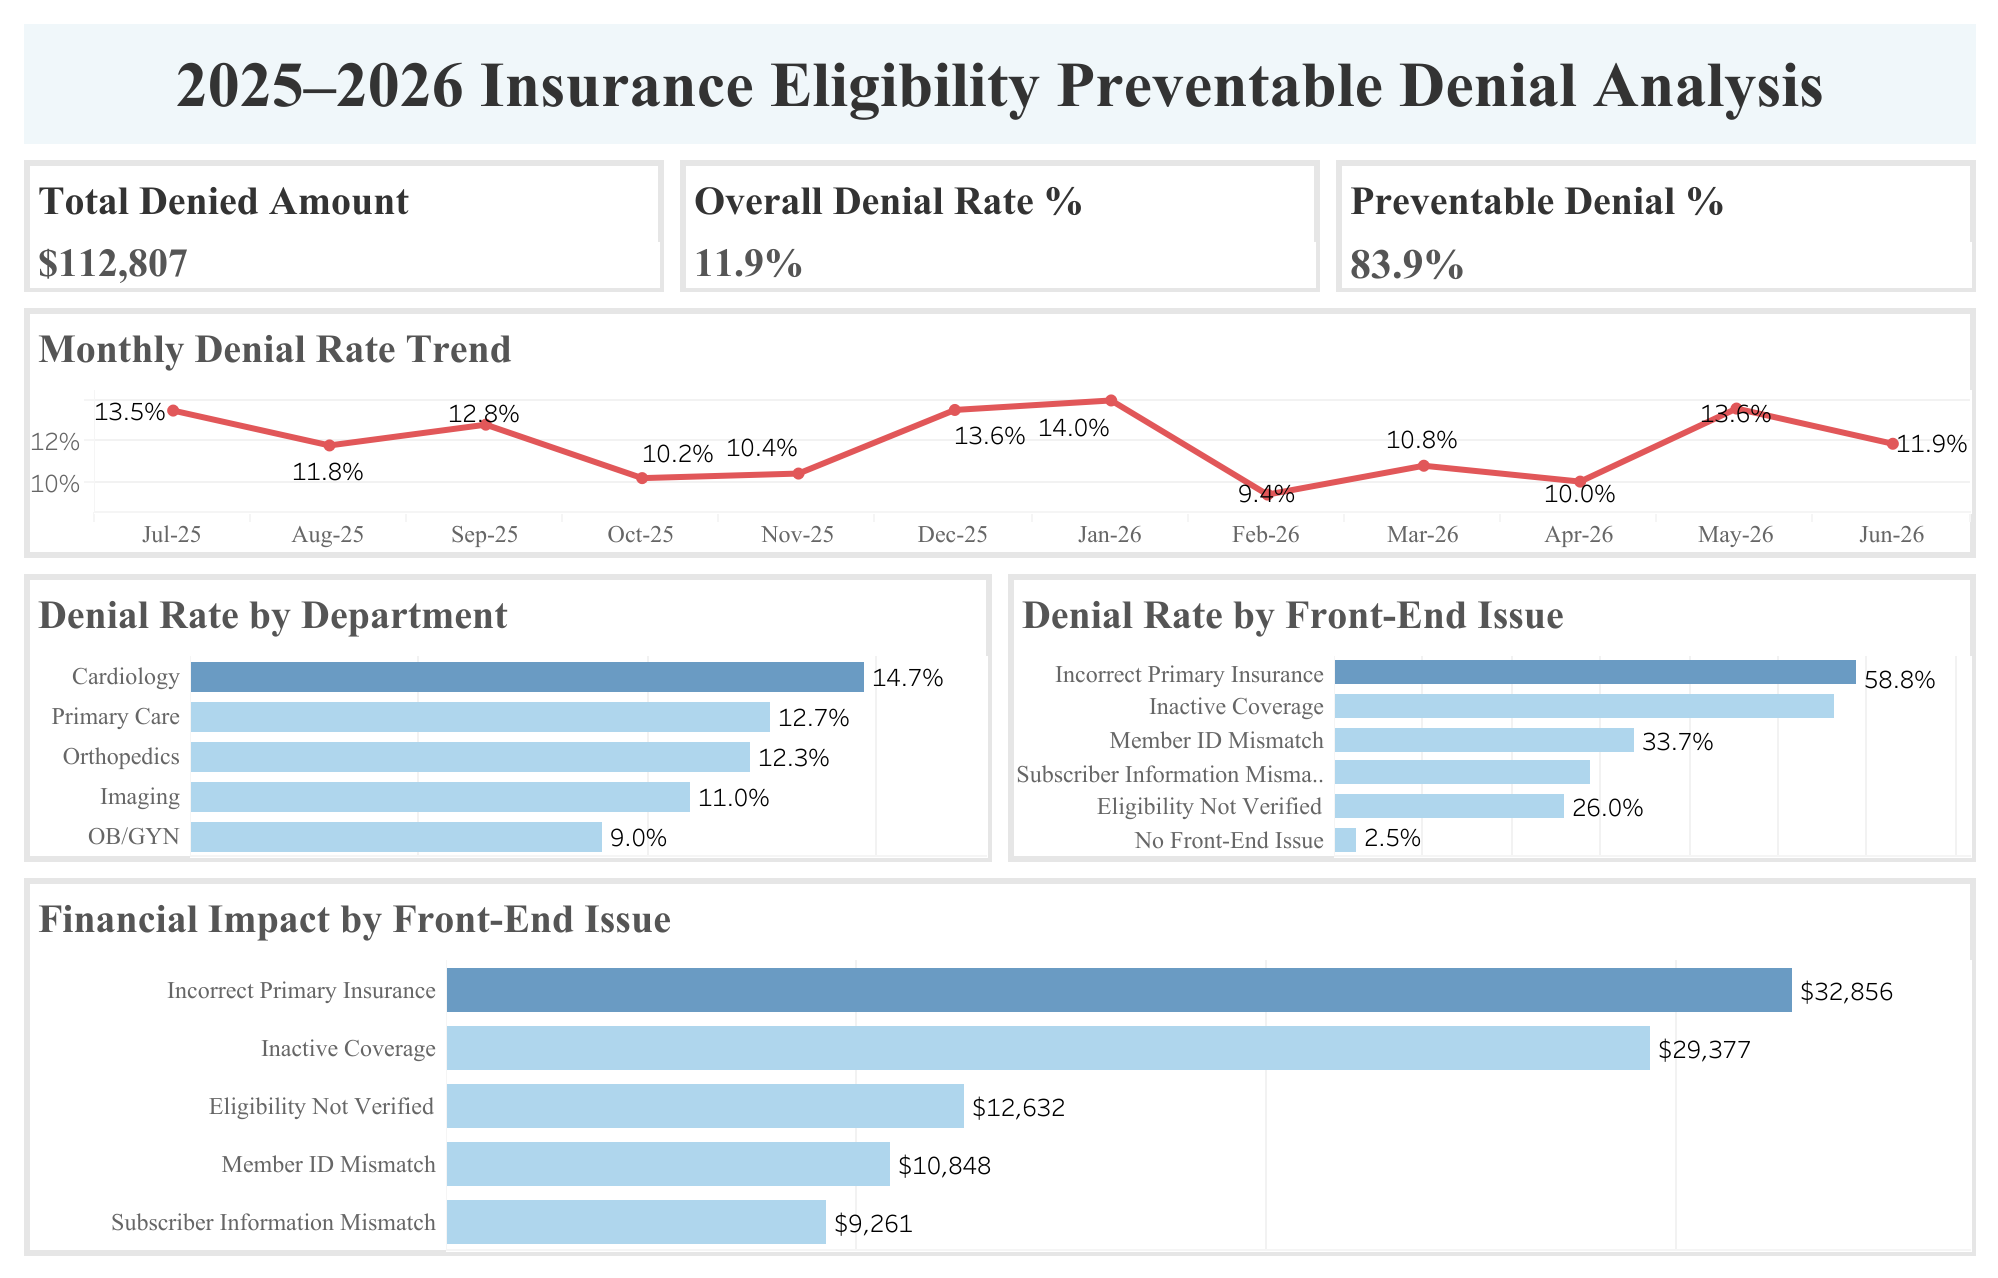

The dashboard page shown, as its layout file describes it:
{"tool":"tableau","page":{"name":"Overview","canvas":[1000,1000],"units":"permille","ordinal":2},"visuals":[{"type":"text","box":[8,9.7,984,106.1]},{"type":"worksheet","title":"Total Denied Amount","mark":"Automatic","box":[8,115.8,328,106.2]},{"type":"worksheet","title":"Overall Denial Rate %","mark":"Automatic","box":[336,115.8,328,106.2]},{"type":"worksheet","title":"Preventable Denial %","mark":"Automatic","box":[664,115.8,328,106.2]},{"type":"worksheet","title":"Monthly Denial Rate Trend","mark":"Line","rows":["Calculation_0774159867535362"],"cols":["Calculation_0774159985324038"],"box":[8,221.9,984,208.7]},{"type":"worksheet","title":"Denial Rate by Department","mark":"Automatic","rows":["Department"],"cols":["Calculation_0774159867535362"],"box":[8,430.6,492,235.2]},{"type":"worksheet","title":"Denial Rate by Front-End Issue","mark":"Automatic","rows":["Front_End_Issue"],"cols":["Calculation_0774159867535362"],"box":[500,430.6,492,235.2]},{"type":"worksheet","title":"Financial Impact by Front-End Issue","mark":"Automatic","rows":["Front_End_Issue"],"cols":["Denied_Amount"],"box":[8,665.9,984,285.9]}]}

Visuals, with their boxes on the dashboard's canvas, which has no fixed pixel size, in thousandths of its width and height (x1, y1, x2, y2). These are canvas units, not pixel positions in the 1998x1278 screenshot, which may show the page scaled, cropped or inside an application window:
text: 8:10:992:116
"Total Denied Amount" worksheet: 8:116:336:222
"Overall Denial Rate %" worksheet: 336:116:664:222
"Preventable Denial %" worksheet: 664:116:992:222
"Monthly Denial Rate Trend" worksheet (Line marks): 8:222:992:431
"Denial Rate by Department" worksheet: 8:431:500:666
"Denial Rate by Front-End Issue" worksheet: 500:431:992:666
"Financial Impact by Front-End Issue" worksheet: 8:666:992:952
